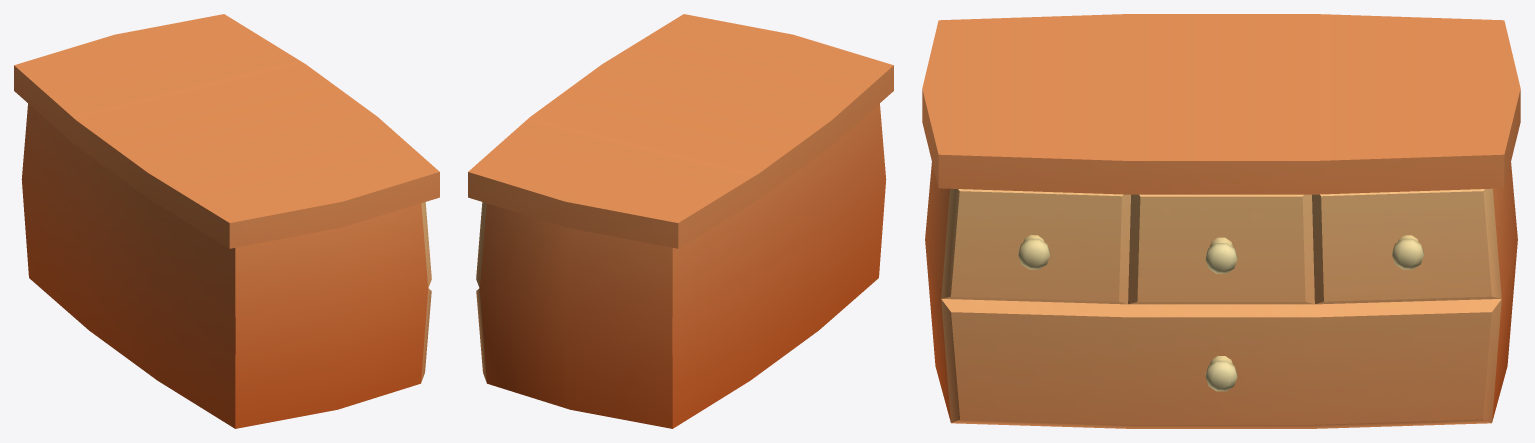
File: Dresser.fbx
The picture shows the model from 3 angles, left to right: view 1: azimuth 30°, elevation 25°; view 2: azimuth 150°, elevation 25°; view 3: azimuth 270°, elevation 25°; orthographic projection. The views are drawn at different scales.
Parts seen in each view (by area): view 1: Dresser; view 2: Dresser; view 3: Dresser.
Boxes of the visible parts, x1,y1,x2,y2 form: Dresser: [14, 14, 439, 428]; Dresser: [468, 14, 893, 428]; Dresser: [922, 14, 1520, 428].
Bounding box in the file's own units: 137 × 113 × 221.
